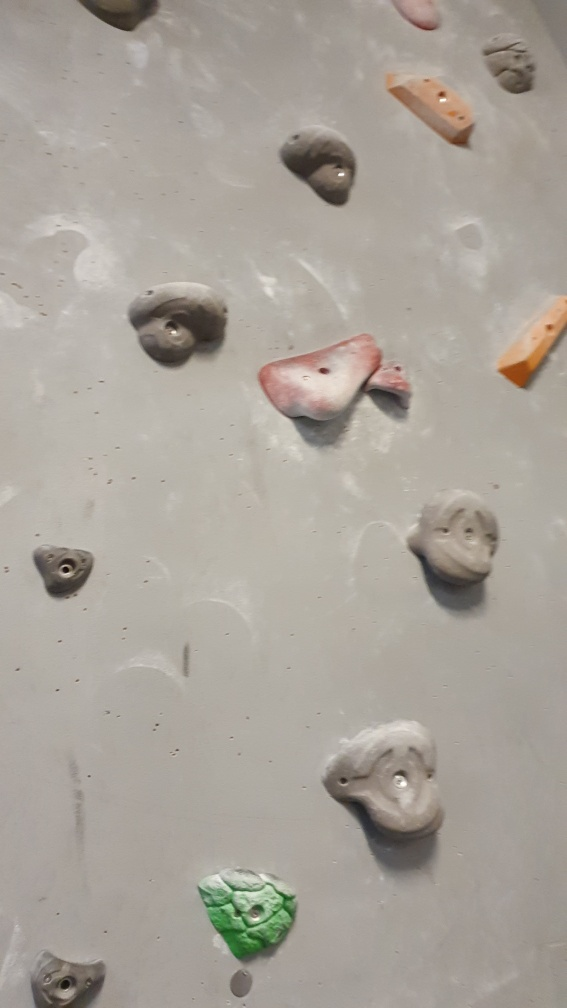Crimp: (28, 539, 96, 603)
Hand Start: (226, 965, 263, 1000)
Jug: (319, 716, 449, 848), (397, 482, 500, 590), (125, 278, 230, 367), (277, 120, 364, 206)
Pinch: (383, 65, 480, 150), (493, 288, 567, 396)
